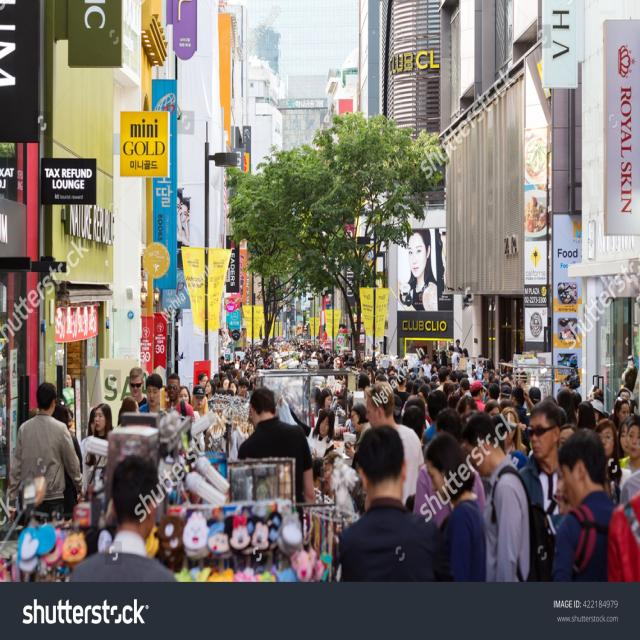body: (337, 424, 455, 584), (67, 453, 179, 583), (459, 417, 539, 582), (550, 430, 630, 584), (235, 387, 318, 526), (5, 380, 83, 526), (421, 428, 488, 582), (362, 381, 426, 507), (515, 399, 565, 544), (457, 338, 536, 416), (251, 326, 353, 380), (269, 380, 363, 438), (353, 338, 457, 380), (595, 386, 640, 465), (536, 380, 596, 437), (164, 361, 217, 418), (401, 229, 437, 302), (395, 380, 457, 420), (84, 402, 113, 480), (217, 337, 251, 401), (79, 405, 97, 502), (56, 369, 79, 421), (138, 372, 164, 414), (173, 194, 192, 247), (114, 396, 140, 432), (128, 366, 148, 408)
